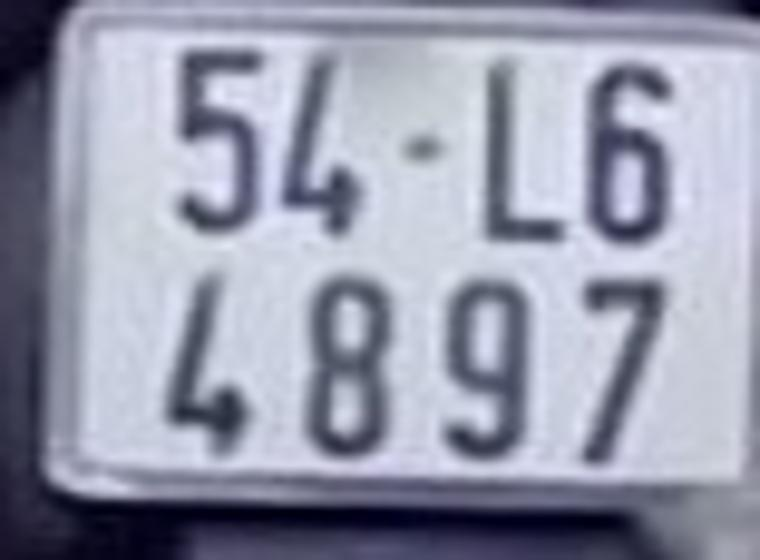-: (399, 132, 448, 173)
4: (161, 272, 261, 467)
5: (170, 44, 270, 237), (277, 47, 367, 242)
6: (582, 52, 683, 252)
7: (573, 275, 669, 475)
8: (299, 269, 403, 463)
9: (437, 272, 542, 468)
L: (482, 58, 575, 250)
